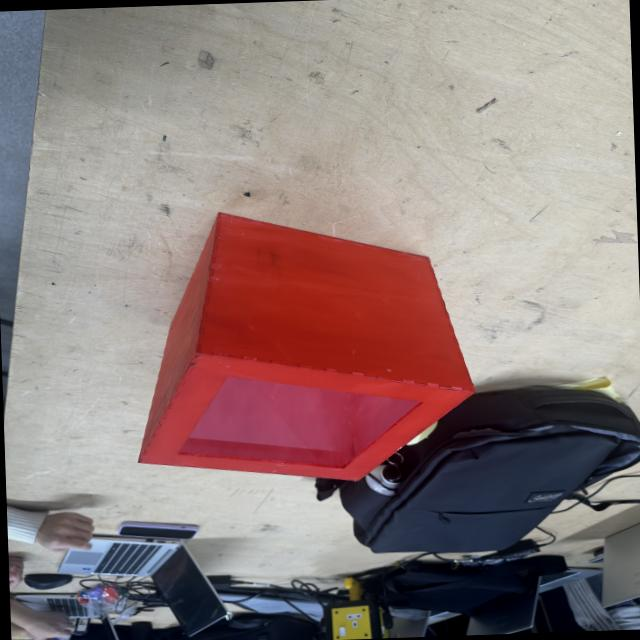red_bin: (126, 202, 478, 489)
